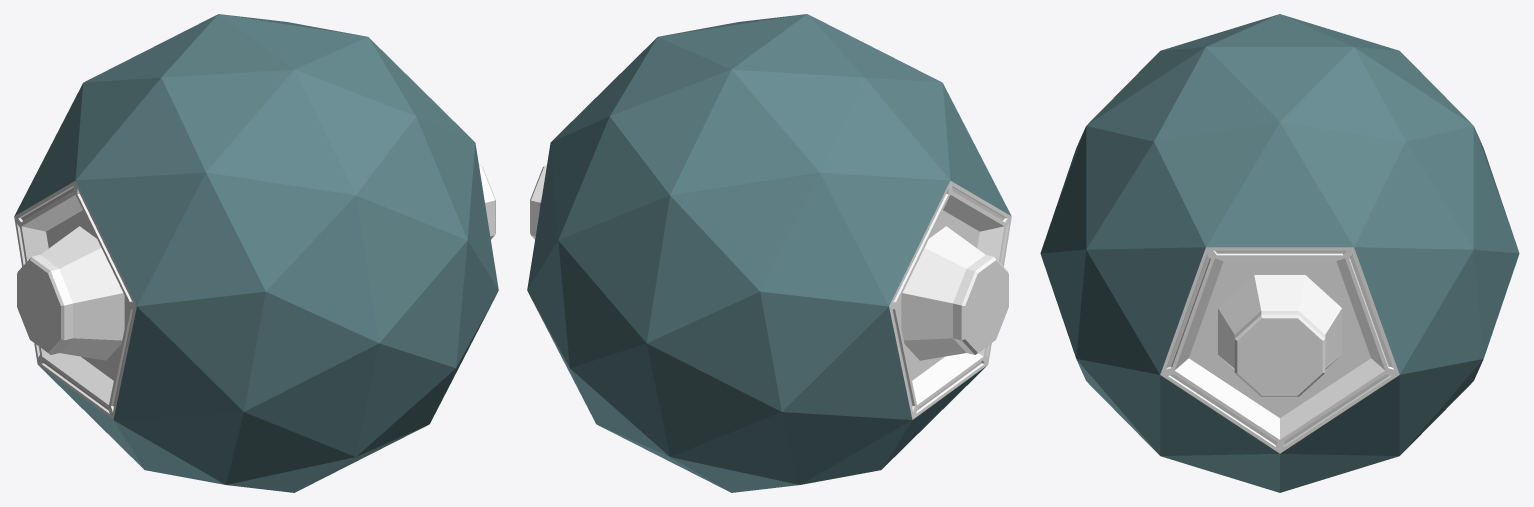
File: ss_cargo2.glb
3 renders of one model, left to right at view 1: azimuth 30°, elevation 25°; view 2: azimuth 150°, elevation 25°; view 3: azimuth 270°, elevation 25°, orthographic. The views are drawn at different scales.
Visible parts, largest first — view 1: Cube.007; view 2: Cube.007; view 3: Cube.007.
Boxes of the visible parts, x1,y1,x2,y2 form: Cube.007: [14, 14, 498, 492]; Cube.007: [527, 14, 1011, 492]; Cube.007: [1040, 14, 1519, 492].
Bounding box in the file's own units: 10 × 9.3 × 9.78.
